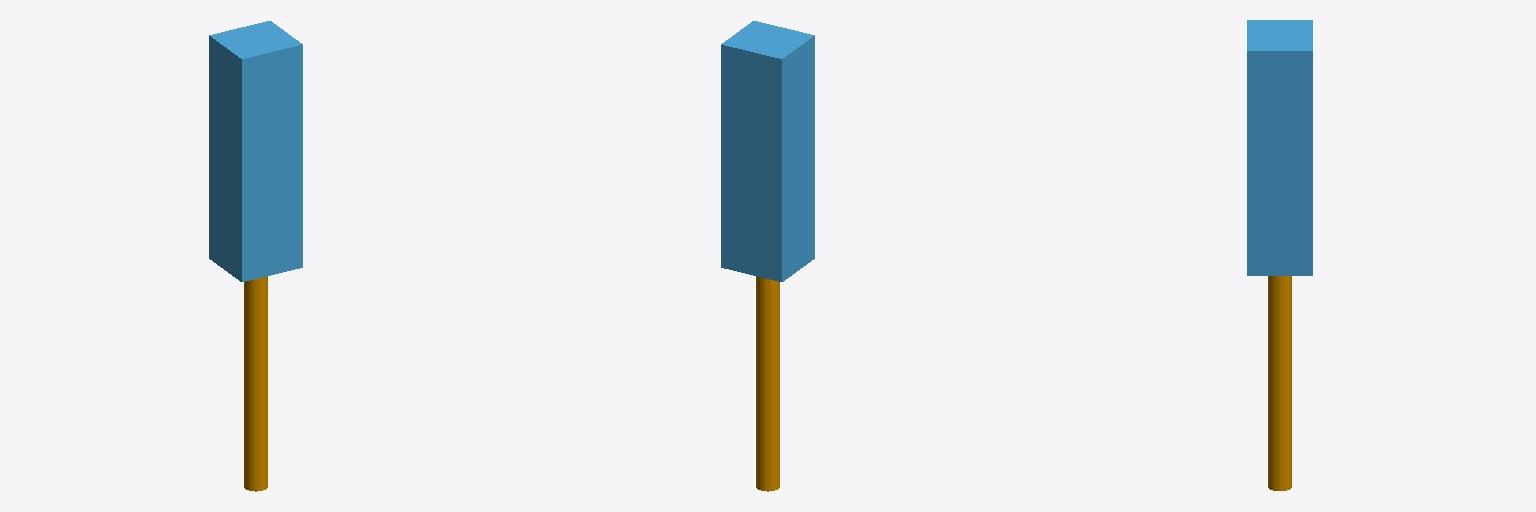
The robot description file, URDF, robot "screwdriver_on_the_table":
<?xml version="1.0" ?>
<!-- this is the one without any virtual joints and links -->
<robot name="screwdriver_on_the_table">
<link name="screwdriver_stick">
    <inertial>
      <mass value="0.05"/>
      <!-- <friction value="1.0"/> -->
      <inertia ixx="0.000041979" ixy="0.0" ixz="0.0" iyy="0.000041979" iyz="0.0" izz="0.000000625"/>
    </inertial>
    <visual>
        <origin rpy="0 0 0" xyz="0 0 0.05"/>
        <geometry>
            <cylinder radius="0.005" length="0.1"/>
        </geometry>
        <!-- <material name="White">
	 	    <color rgba="0.9 0.9 0.9 0.5"/>
        </material> -->
    </visual>
    <collision>
        <origin rpy="0 0 0" xyz="0 0 0.05"/>
        <geometry>
            <cylinder radius="0.005" length="0.1"/>
        </geometry>
    </collision>
</link>

<gazebo reference="screwdriver_body">
    <mu1>1.0</mu1>
    <mu2>1.0</mu2>
    <!-- Isaac Sim maps mu1/mu2 to PhysX static/dynamic friction during URDF→USD import -->
</gazebo>

<joint name="screwdriver_stick_body_joint" type="fixed">
    <parent link="screwdriver_stick"/>
    <child link="screwdriver_body"/>
    <origin rpy="0 0 0" xyz="0 0 0.1"/> 
    <axis xyz="0 0 1"/>
</joint>

<link name="screwdriver_body">
    <inertial>
      <mass value="0.1"/>
      <inertia ixx="0.000089232" ixy="0.0" ixz="0.0" iyy="0.000090185" iyz="0.0" izz="0.000012750"/>
    </inertial>
    <visual>
        <origin rpy="0 0 0" xyz="0 0 0.05"/>
        <geometry>
            <box size="0.028673 0.026606 0.100000"/>
        </geometry>
        <!-- <material name="Red1">
	 	    <color rgba="0.9 0. 0. 0.5"/>
        </material> -->
    </visual>
    <collision>
        <origin rpy="0 0 0" xyz="0 0 0.05"/>
        <geometry>
            <box size="0.028673 0.026606 0.100000"/>
        </geometry>
    </collision>
</link>

<!-- <joint name="screwdriver_body_cap_joint" type="revolute">
    <parent link="screwdriver_body"/>
    <child link="screwdriver_cap"/>
    <origin rpy="0 0 0" xyz="0 0 0.1"/> 
    <axis xyz="0 0 1"/>
</joint>

<link name="screwdriver_cap">
    <inertial>
      <mass value="0.005"/>
      <inertia ixx="0.00001" ixy="0.0" ixz="0.0" iyy="0.000005" iyz="0.0" izz="0.000005"/>
    </inertial>
    <visual>
        <origin rpy="0 0 0" xyz="0 0 0.0006"/>
        <geometry>
            <cylinder radius="0.02" length="0.001"/>
        </geometry>
        <material name="Yellow">
	 	    <color rgba="0.9 0.9 0. 1.0"/>
        </material>
    </visual>
    <collision>
        <origin rpy="0 0 0" xyz="0 0 0.0005"/>
        <geometry>
            <cylinder radius="0.02" length="0.001"/>
        </geometry>
    </collision>
</link> -->

</robot>

--- Facts derived from the render (not from the file) ---
Views: 3 orthographic renders of the robot side by side, from view 1: azimuth 30°, elevation 25°; view 2: azimuth 150°, elevation 25°; view 3: azimuth 270°, elevation 25°.
Model screwdriver_on_the_table with 2 links and 1 joints (1 fixed), rooted at screwdriver_stick, posed all joints at 0.
Links seen in each view (by area): view 1: screwdriver_body, screwdriver_stick; view 2: screwdriver_body, screwdriver_stick; view 3: screwdriver_body, screwdriver_stick.
Link boxes in pixels (<box>): screwdriver_body: <box>209,21,302,281</box>; screwdriver_stick: <box>244,276,267,491</box>; screwdriver_body: <box>721,21,814,281</box>; screwdriver_stick: <box>756,276,779,491</box>; screwdriver_body: <box>1247,20,1312,275</box>; screwdriver_stick: <box>1268,276,1291,490</box>.
Size in the robot's own frame: 0.0287 by 0.0266 by 0.2 metres.
Geometry: primitives only (box / cylinder / sphere), no mesh files.
